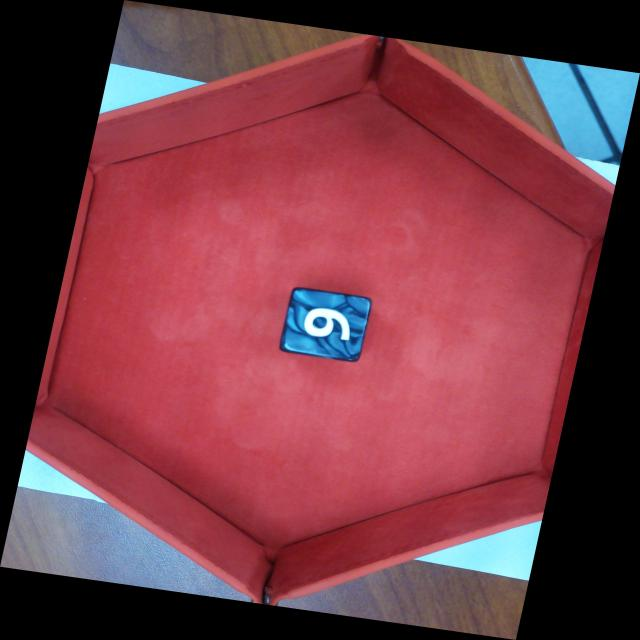dice: (283, 288, 376, 362)
